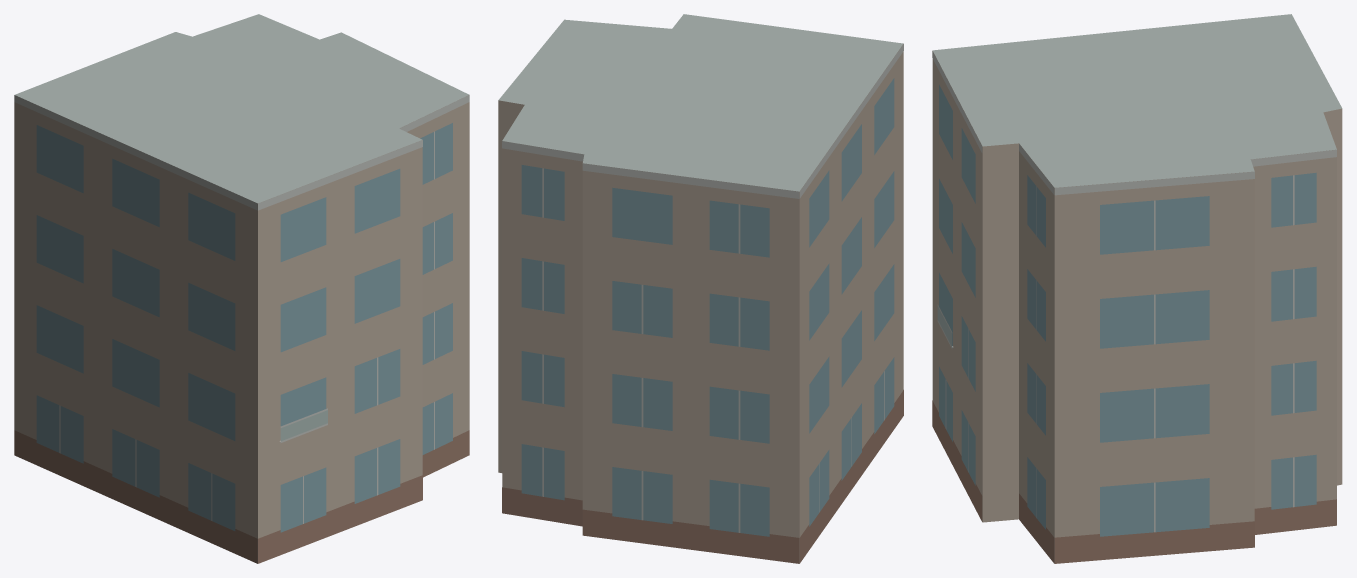
Rendered from survey-upis-32618608.glb.
The picture shows the model from 3 angles, left to right: view 1: azimuth 30°, elevation 25°; view 2: azimuth 150°, elevation 25°; view 3: azimuth 270°, elevation 25°; orthographic projection. The views are drawn at different scales.
Visible parts, largest first — view 1: survey-upis-32618608.tmp; view 2: survey-upis-32618608.tmp; view 3: survey-upis-32618608.tmp.
Boxes of the visible parts, x1,y1,x2,y2 form: survey-upis-32618608.tmp: (14, 14, 469, 563); survey-upis-32618608.tmp: (498, 14, 903, 563); survey-upis-32618608.tmp: (932, 14, 1342, 563).
Size of the model in its own units: 12.11 by 12.2 by 12.07.
